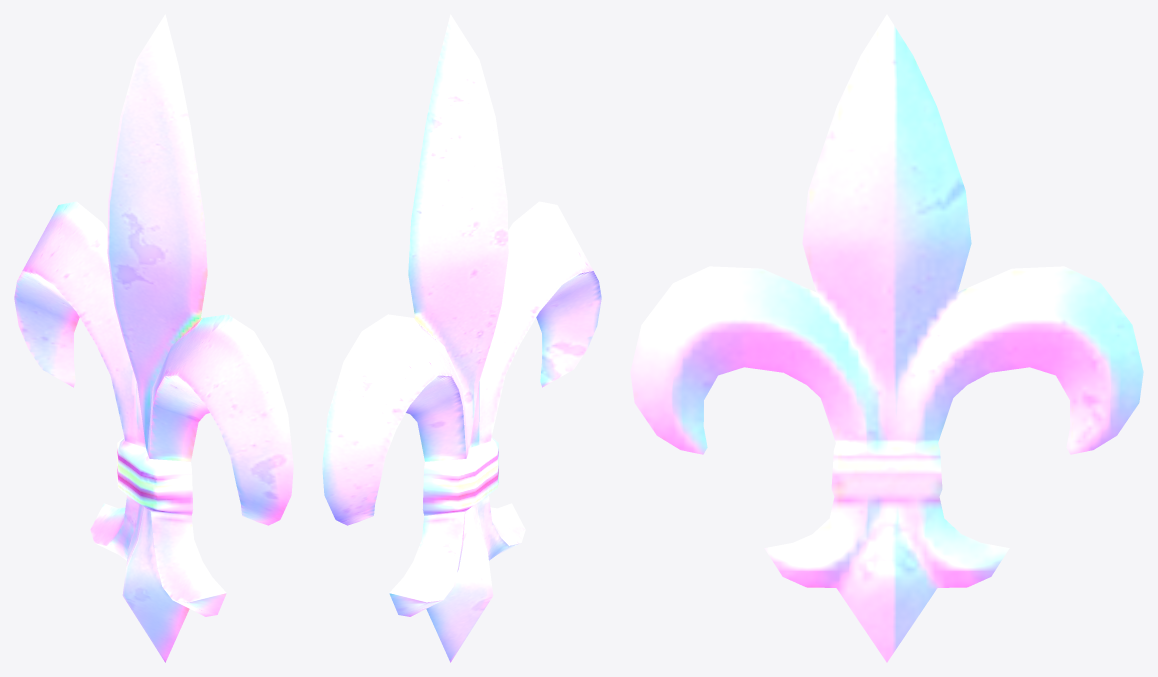
The model's file is fleur_de_lis_SM.fbx.
The picture shows the model from 3 angles, left to right: view 1: azimuth 30°, elevation 25°; view 2: azimuth 150°, elevation 25°; view 3: azimuth 270°, elevation 25°; orthographic projection.
Parts seen in each view (by area): view 1: fleur_de_lis_SM_LOD0; view 2: fleur_de_lis_SM_LOD0; view 3: fleur_de_lis_SM_LOD0.
Part boxes in pixels (x1,y1,x2,y2): fleur_de_lis_SM_LOD0: (14, 14, 293, 662); fleur_de_lis_SM_LOD0: (322, 14, 601, 662); fleur_de_lis_SM_LOD0: (630, 14, 1143, 662).
Bounding box in the file's own units: 5.59 × 42.83 × 59.74.
1 material, 1 textured.
